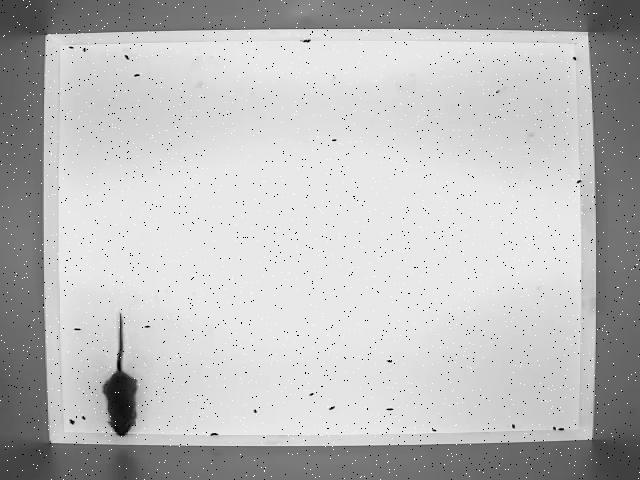Tikus: (102, 311, 140, 437)
